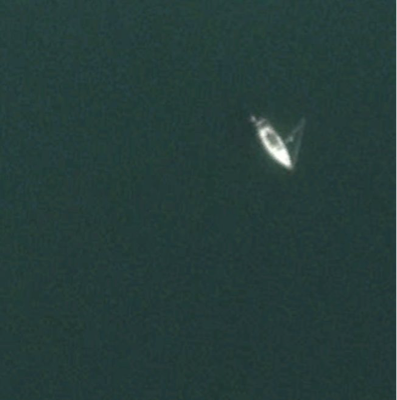boat: (253, 114, 297, 171)
